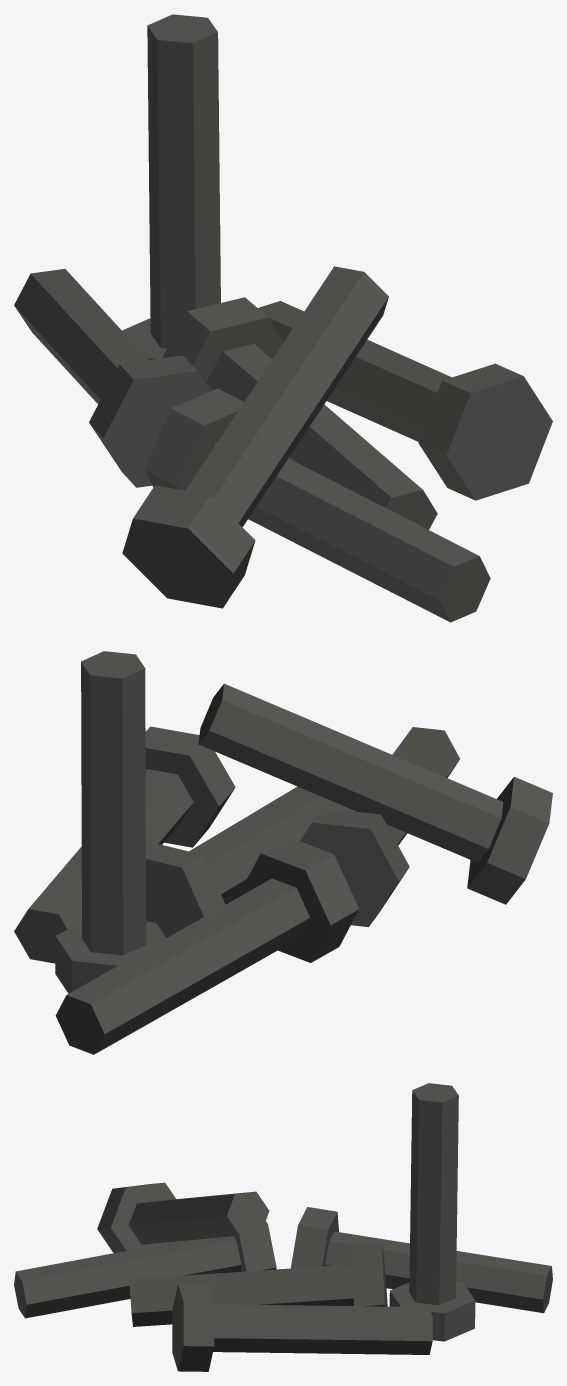
File: SM_Screw.fbx
3 views of the same model, one above another, from view 1: azimuth 30°, elevation 25°; view 2: azimuth 150°, elevation 25°; view 3: azimuth 270°, elevation 25° (orthographic). The views are drawn at different scales.
Parts seen in each view (by area): view 1: SM_Screw; view 2: SM_Screw; view 3: SM_Screw.
Part boxes in pixels (left/top/right/bottom): SM_Screw: left=14, top=14, right=552, bottom=622; SM_Screw: left=14, top=651, right=552, bottom=1054; SM_Screw: left=14, top=1083, right=552, bottom=1371.
Bounding box in the file's own units: 15.43 × 12.04 × 24.58.
